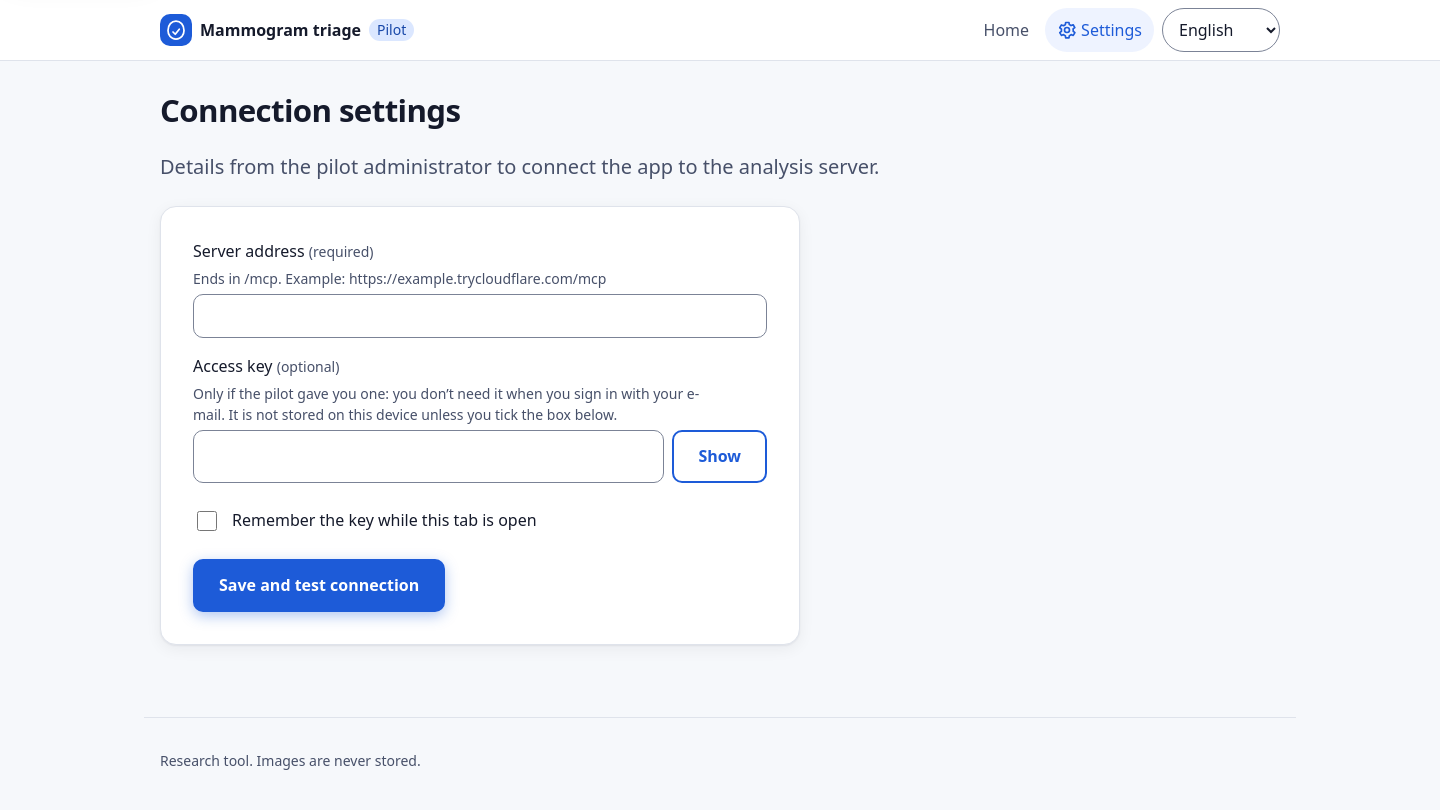
Test: Settings › saves without an access key: behind Cloudflare Access the sign-in is enough
This screenshot has width=1440, height=810.
Expected: the text "(optional)" is shown, [277,357,339,376]
Type "https://app.example/mcp" into the field labelled "Server address (required)" at [480, 316], box [193,294,767,338]
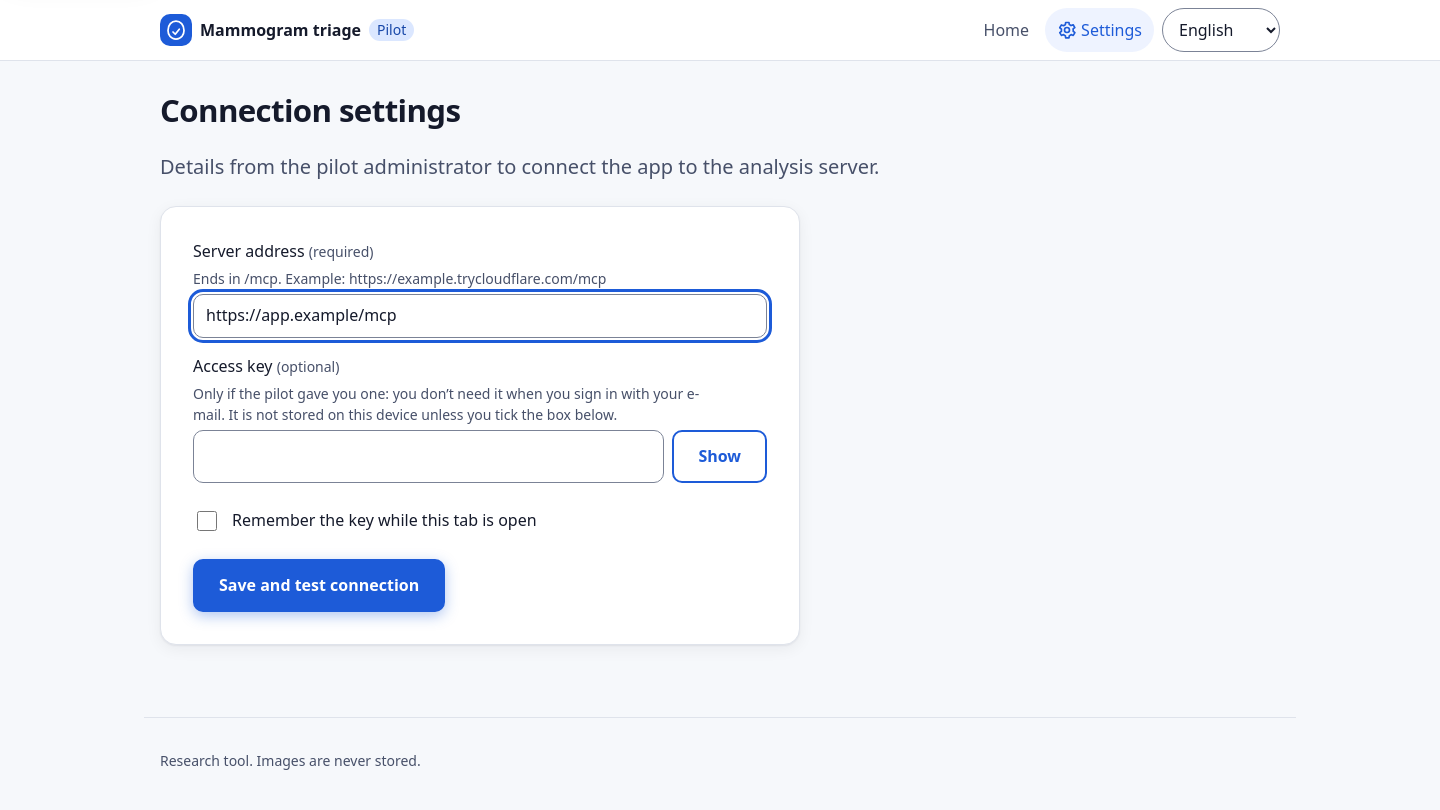
Click the button "Save and test connection" at [319, 585], box [193,559,445,612]
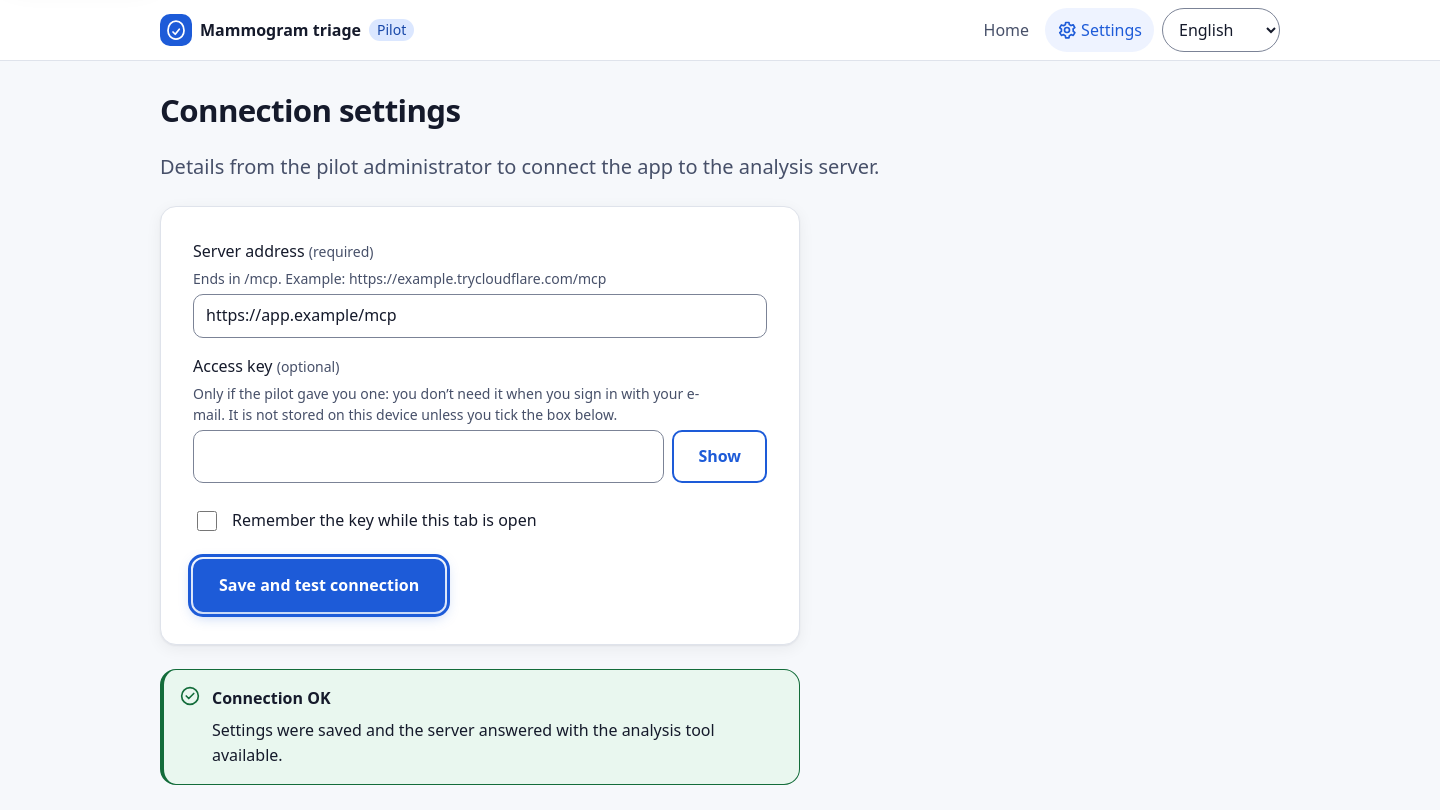
Expected: the text "Connection OK" is shown, [212,687,331,709]
